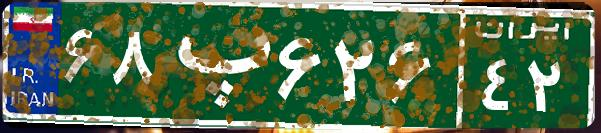2: (330, 28, 385, 110), (525, 38, 570, 115)
4: (475, 38, 525, 113)
6: (385, 28, 445, 110), (273, 28, 330, 110), (57, 26, 110, 107)
8: (110, 28, 158, 105)
پ: (158, 15, 273, 115)
